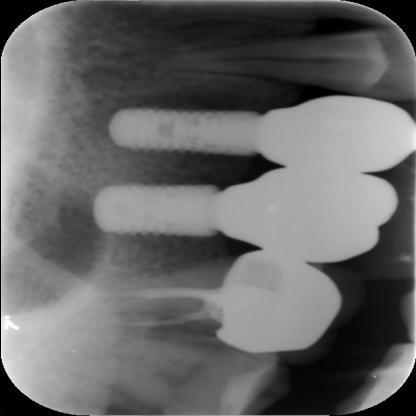ITI: (106, 99, 265, 161), (91, 178, 228, 244)
